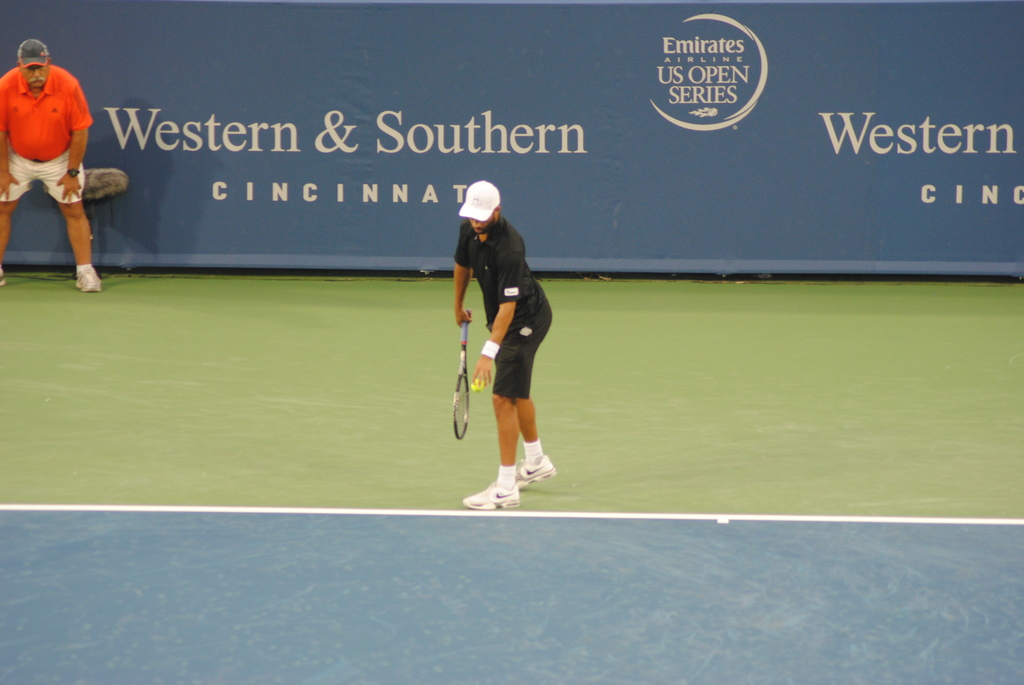Ball: (467, 375, 486, 391)
